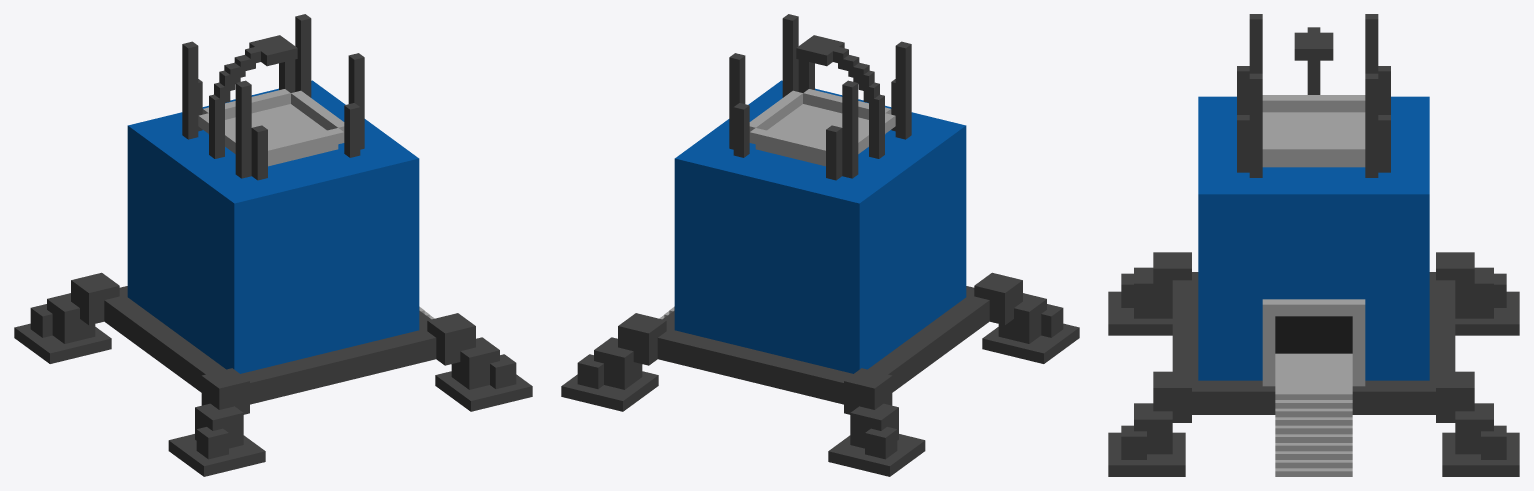
Rendered from Blue-3.obj.
3 views of the same model, side by side, from view 1: azimuth 30°, elevation 25°; view 2: azimuth 150°, elevation 25°; view 3: azimuth 270°, elevation 25° (orthographic). The views are drawn at different scales.
Visible parts, largest first — view 1: Blue-3; view 2: Blue-3; view 3: Blue-3.
Part boxes in pixels (x1=…): Blue-3: x1=14, y1=14, x2=532, y2=476; Blue-3: x1=561, y1=14, x2=1079, y2=476; Blue-3: x1=1108, y1=14, x2=1519, y2=476.
Bounding box in the file's own units: 64 × 60 × 64.
1 material, 1 textured.
